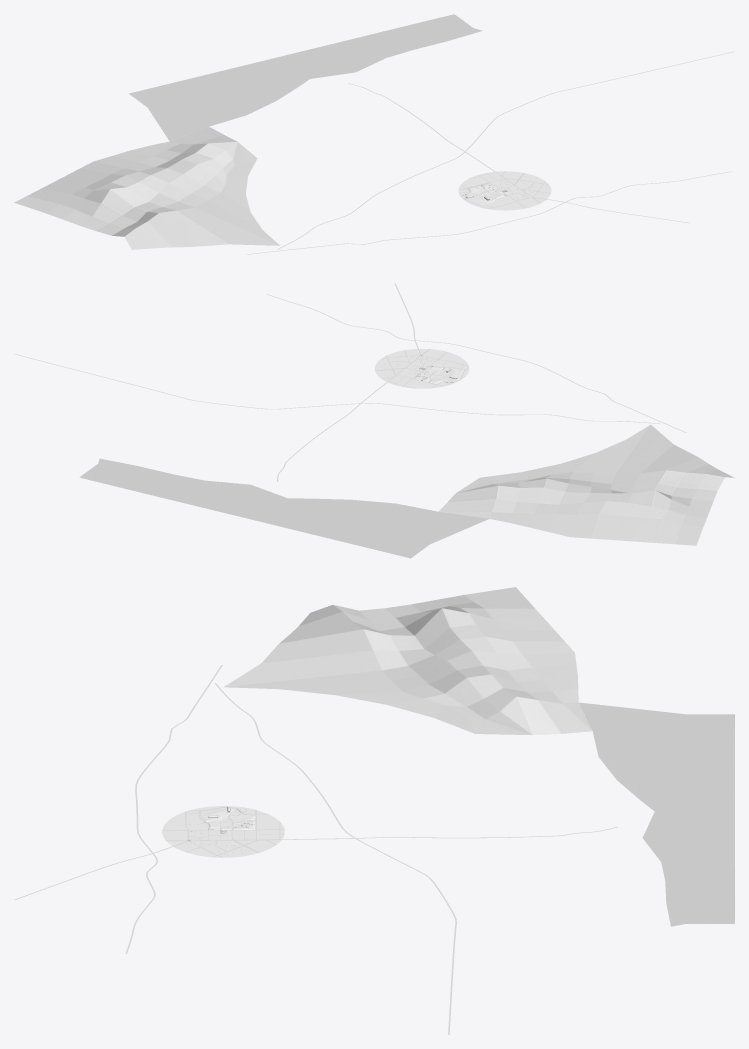
Rendered from airSpace_22.glb.
3 renders of one model, top to bottom at view 1: azimuth 30°, elevation 25°; view 2: azimuth 150°, elevation 25°; view 3: azimuth 270°, elevation 25°, orthographic. The views are drawn at different scales.
Visible parts, largest first — view 1: rest_bakeGroup_02, roads; view 2: rest_bakeGroup_02, roads; view 3: rest_bakeGroup_02, roads.
Part boxes in pixels (bbox=[...]): rest_bakeGroup_02: bbox=[14, 14, 551, 249]; roads: bbox=[246, 51, 734, 254]; rest_bakeGroup_02: bbox=[79, 348, 734, 558]; roads: bbox=[14, 283, 686, 481]; rest_bakeGroup_02: bbox=[163, 587, 734, 926]; roads: bbox=[14, 665, 617, 1034].
Size of the model in its own units: 12132 by 296 by 8251.
5 materials, 3 textured.
